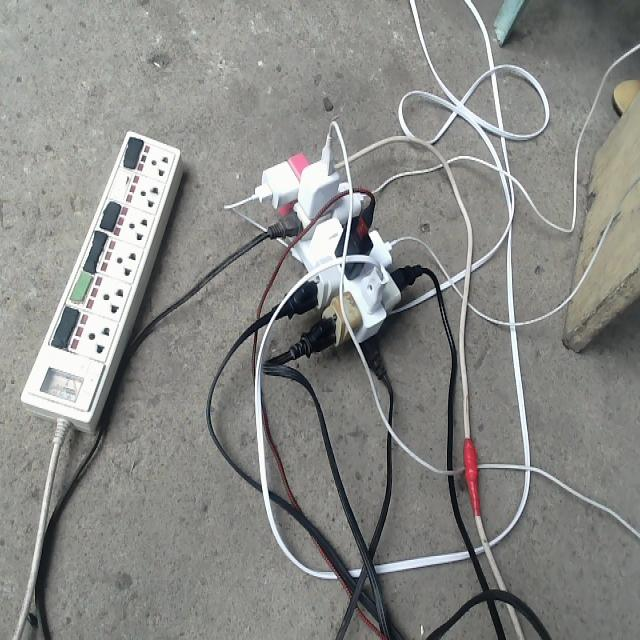-: (255, 128, 422, 379)
